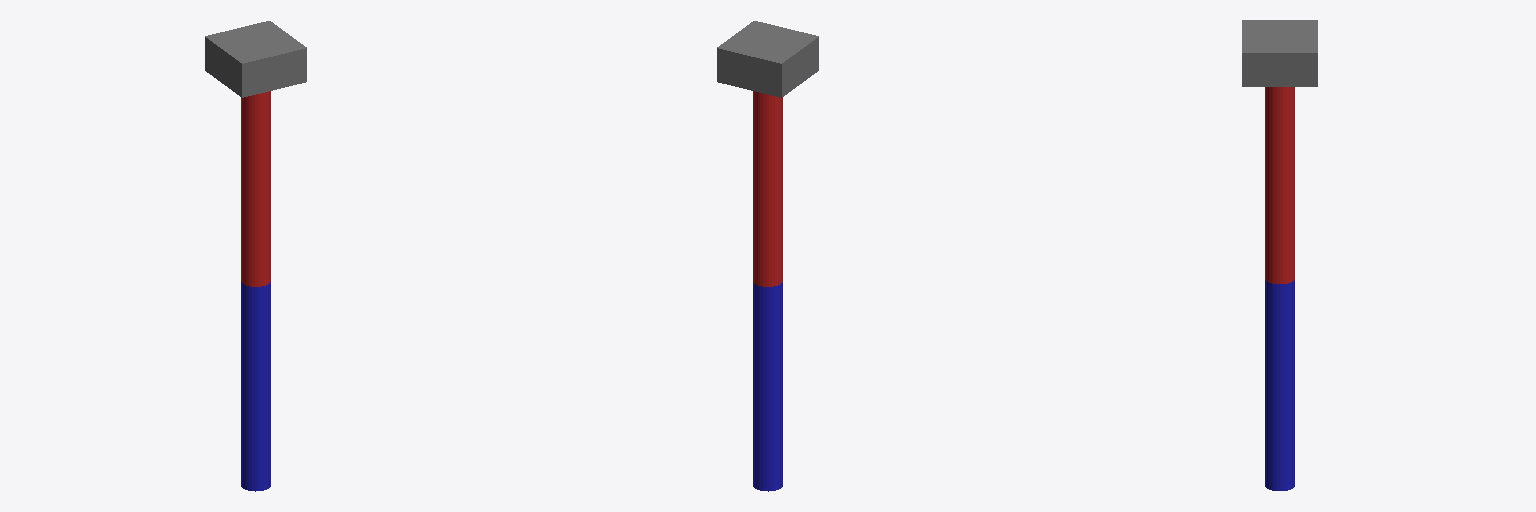
URDF robot description (two_link_arm):
<?xml version="1.0"?>
<!-- week02 | 2링크 팔 URDF (함태훈, B1)
     단위: m, kg, rad. 베이스는 천장(월드)에 고정, 팔은 -Z 방향으로 늘어짐 (q=0 이 아래로 늘어진 안정 자세).
     어깨·팔꿈치 revolute (Y축 회전).
     링크 길이 0.3 m, 각 링크 질량 1.0 kg, 관성은 균일 막대 근사 (I = m·L²/12). -->
<robot name="two_link_arm">
  <!-- week03 (10/7) 추가 | 박종진 체크리스트 v0.1 B절 반영: MuJoCo 전용 확장.
       fusestatic=false → base_link(5 kg) body 유지, discardvisual=false → visual 형상도 로드 (MuJoCo 외 파서는 이 블록을 무시) -->
  <mujoco>
    <compiler fusestatic="false" discardvisual="false" balanceinertia="false"/>
  </mujoco>

  <link name="base_link">
    <visual>
      <geometry><box size="0.1 0.1 0.05"/></geometry>
      <material name="grey"><color rgba="0.5 0.5 0.5 1"/></material>
    </visual>
    <!-- 베이스 collision은 두지 않음: MuJoCo에서 월드 고정 링크는 자식과 충돌 제외가 안 되어 어깨에 접촉력이 생김 -->
    <inertial>
      <mass value="5.0"/>
      <inertia ixx="0.01" iyy="0.01" izz="0.01" ixy="0" ixz="0" iyz="0"/>
    </inertial>
  </link>

  <!-- 어깨: base_link(부모) 프레임 기준 (0,0,-0.025) 에 위치, 축은 joint(자식) 프레임의 Y, ±150° -->
  <joint name="shoulder" type="revolute">
    <parent link="base_link"/>
    <child link="upper_arm"/>
    <origin xyz="0 0 -0.025" rpy="0 0 0"/>
    <axis xyz="0 1 0"/>
    <limit lower="-2.618" upper="2.618" effort="25" velocity="5"/>
    <dynamics damping="0.1" friction="0"/>
  </joint>

  <link name="upper_arm">
    <!-- 링크는 자기 프레임 -Z 방향으로 0.3 m 뻗음. 시각/충돌 형상 중심 = -0.15 m -->
    <visual>
      <origin xyz="0 0 -0.15" rpy="0 0 0"/>
      <geometry><cylinder radius="0.02" length="0.3"/></geometry>
      <material name="red"><color rgba="0.8 0.2 0.2 1"/></material>
    </visual>
    <collision>
      <origin xyz="0 0 -0.15" rpy="0 0 0"/>
      <geometry><cylinder radius="0.02" length="0.3"/></geometry>
    </collision>
    <inertial>
      <origin xyz="0 0 -0.15" rpy="0 0 0"/>
      <mass value="1.0"/>
      <!-- 균일 막대 L=0.3, m=1: I_xx=I_yy = mL²/12 = 0.0075, I_zz ≈ 0 (반지름 작음) -->
      <inertia ixx="0.0075" iyy="0.0075" izz="0.0002" ixy="0" ixz="0" iyz="0"/>
    </inertial>
  </link>

  <!-- 팔꿈치: upper_arm 끝 (0,0,-0.3), Y축 회전, -60° ~ +120° -->
  <joint name="elbow" type="revolute">
    <parent link="upper_arm"/>
    <child link="forearm"/>
    <origin xyz="0 0 -0.3" rpy="0 0 0"/>
    <axis xyz="0 1 0"/>
    <limit lower="-1.047" upper="2.094" effort="25" velocity="5"/>
    <dynamics damping="0.1" friction="0"/>
  </joint>

  <link name="forearm">
    <visual>
      <origin xyz="0 0 -0.15" rpy="0 0 0"/>
      <geometry><cylinder radius="0.02" length="0.3"/></geometry>
      <material name="blue"><color rgba="0.2 0.2 0.8 1"/></material>
    </visual>
    <collision>
      <origin xyz="0 0 -0.15" rpy="0 0 0"/>
      <geometry><cylinder radius="0.02" length="0.3"/></geometry>
    </collision>
    <inertial>
      <origin xyz="0 0 -0.15" rpy="0 0 0"/>
      <mass value="1.0"/>
      <inertia ixx="0.0075" iyy="0.0075" izz="0.0002" ixy="0" ixz="0" iyz="0"/>
    </inertial>
  </link>

</robot>

--- Render facts (derived) ---
The picture shows the robot from 3 angles, left to right: view 1: azimuth 30°, elevation 25°; view 2: azimuth 150°, elevation 25°; view 3: azimuth 270°, elevation 25°; orthographic projection.
Model two_link_arm with 3 links and 2 joints (2 revolute), rooted at base_link, posed all joints at 0.
Links seen in each view (by area): view 1: forearm, base_link, upper_arm; view 2: forearm, base_link, upper_arm; view 3: forearm, upper_arm, base_link.
Link boxes in pixels (bbox=[...]): forearm: bbox=[241, 282, 270, 491]; base_link: bbox=[205, 21, 306, 97]; upper_arm: bbox=[241, 91, 270, 286]; forearm: bbox=[753, 282, 782, 491]; base_link: bbox=[717, 21, 818, 97]; upper_arm: bbox=[753, 91, 782, 286]; forearm: bbox=[1265, 280, 1294, 490]; upper_arm: bbox=[1265, 87, 1294, 283]; base_link: bbox=[1242, 20, 1317, 86].
Bounding box of the posed robot: 0.1 × 0.1 × 0.65 m (x, y, z).
Geometry: primitives only (box / cylinder / sphere), no mesh files.
